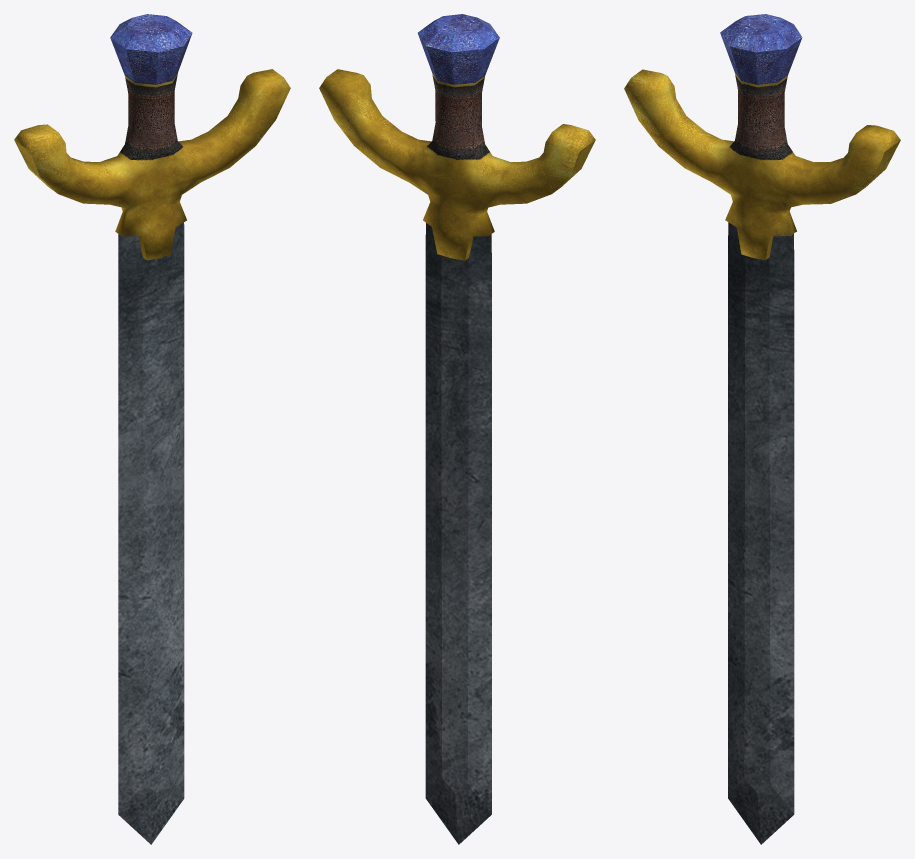
Rendered from Sword.fbx.
The picture shows the model from 3 angles, left to right: view 1: azimuth 30°, elevation 25°; view 2: azimuth 150°, elevation 25°; view 3: azimuth 330°, elevation 25°; orthographic projection.
Visible parts, largest first — view 1: Sword; view 2: Sword; view 3: Sword.
Part boxes in pixels (x1=…): Sword: x1=14, y1=14, x2=290, y2=844; Sword: x1=319, y1=14, x2=595, y2=844; Sword: x1=624, y1=14, x2=900, y2=844.
Bounding box in the file's own units: 19.59 × 58.97 × 5.03.
